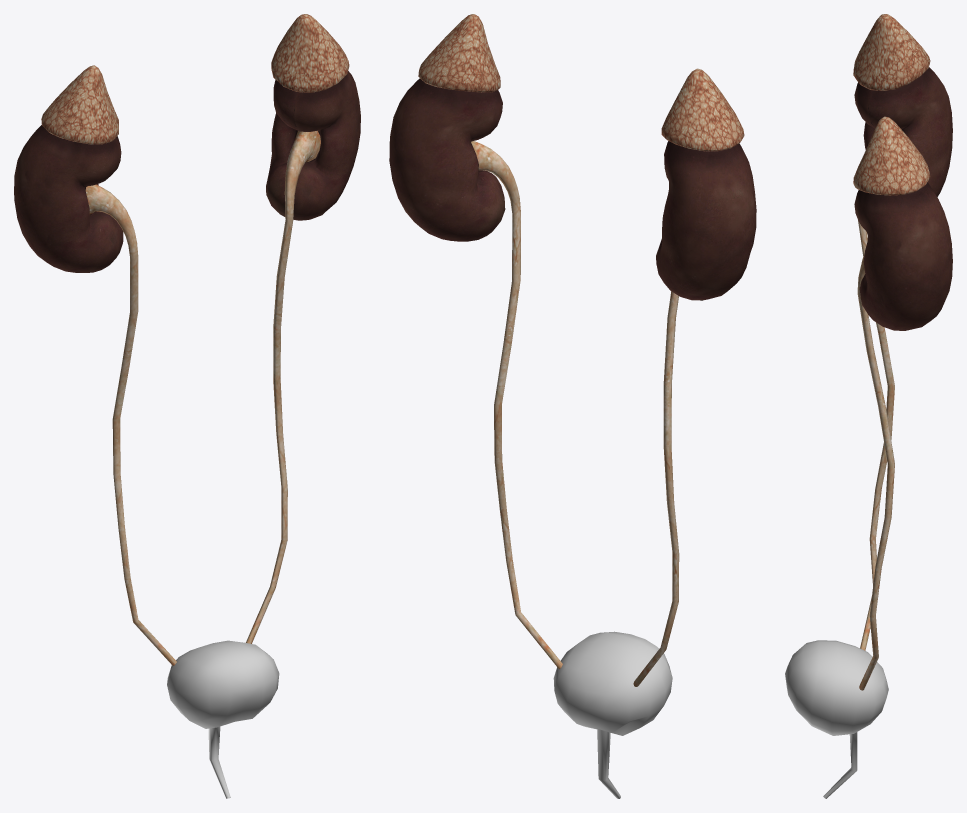
3 views of the same model, side by side, from view 1: azimuth 30°, elevation 25°; view 2: azimuth 150°, elevation 25°; view 3: azimuth 270°, elevation 25° (orthographic). The views are drawn at different scales.
Visible parts, largest first — view 1: polySurface10, polySurface9, V1_1:jianmian_02:Female_Urinary_Bladder; view 2: polySurface9, polySurface10, V1_1:jianmian_02:Female_Urinary_Bladder; view 3: polySurface9, polySurface10, V1_1:jianmian_02:Female_Urinary_Bladder.
Boxes of the visible parts, <box> form: polySurface10: <box>14,65,176,665</box>; polySurface9: <box>246,14,360,643</box>; V1_1:jianmian_02:Female_Urinary_Bladder: <box>167,640,279,798</box>; polySurface9: <box>389,14,562,669</box>; polySurface10: <box>633,68,756,686</box>; V1_1:jianmian_02:Female_Urinary_Bladder: <box>553,631,672,798</box>; polySurface9: <box>853,116,952,690</box>; polySurface10: <box>853,14,952,650</box>; V1_1:jianmian_02:Female_Urinary_Bladder: <box>785,640,888,798</box>.
Size of the model in its own units: 14.92 by 31.17 by 6.47.
